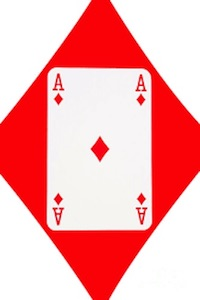AceOfDiamonds: (46, 65, 154, 234)
